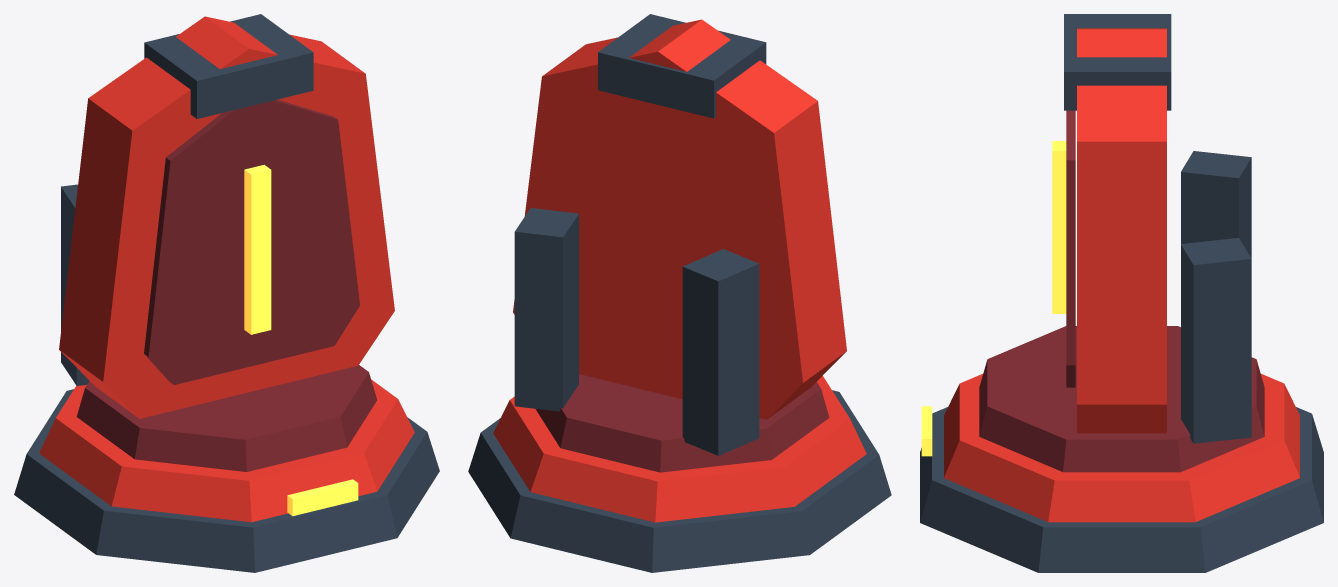
File: shield_red.glb
3 renders of one model, left to right at view 1: azimuth 30°, elevation 25°; view 2: azimuth 150°, elevation 25°; view 3: azimuth 270°, elevation 25°, orthographic. The views are drawn at different scales.
Visible parts, largest first — view 1: shield_red_Armor_Plate, shield_red_Front_Optical_Panel, shield_red_Base_Lower, shield_red_Base_Band, shield_red_Base_Deck, shield_red_Top_Rail, shield_red_Front_Slit, shield_red_Rear_Brace_Left, shield_red_Status_Light; view 2: shield_red_Armor_Plate, shield_red_Base_Lower, shield_red_Base_Band, shield_red_Rear_Brace_Left, shield_red_Base_Deck, shield_red_Rear_Brace_Right, shield_red_Top_Rail; view 3: shield_red_Armor_Plate, shield_red_Base_Lower, shield_red_Base_Band, shield_red_Base_Deck, shield_red_Rear_Brace_Right, shield_red_Rear_Brace_Left, shield_red_Top_Rail, shield_red_Front_Optical_Panel, shield_red_Front_Slit, shield_red_Status_Light.
Boxes of the visible parts, box(x1,y1,x2,y2) form: shield_red_Armor_Plate: box(59, 16, 394, 418); shield_red_Front_Optical_Panel: box(144, 99, 359, 384); shield_red_Base_Lower: box(14, 389, 439, 572); shield_red_Base_Band: box(39, 379, 414, 522); shield_red_Base_Deck: box(76, 365, 376, 471); shield_red_Top_Rail: box(144, 14, 313, 118); shield_red_Front_Slit: box(244, 164, 271, 334); shield_red_Rear_Brace_Left: box(61, 184, 89, 385); shield_red_Status_Light: box(287, 479, 358, 516); shield_red_Armor_Plate: box(513, 19, 846, 419); shield_red_Base_Lower: box(468, 390, 891, 572); shield_red_Base_Band: box(493, 376, 866, 522); shield_red_Rear_Brace_Left: box(682, 249, 759, 455); shield_red_Base_Deck: box(535, 374, 829, 472); shield_red_Rear_Brace_Right: box(514, 208, 578, 411); shield_red_Top_Rail: box(598, 14, 766, 118); shield_red_Armor_Plate: box(1077, 28, 1166, 433); shield_red_Base_Lower: box(920, 407, 1323, 572); shield_red_Base_Band: box(944, 374, 1299, 522); shield_red_Base_Deck: box(979, 326, 1264, 472); shield_red_Rear_Brace_Right: box(1181, 238, 1251, 443); shield_red_Rear_Brace_Left: box(1181, 151, 1251, 258); shield_red_Top_Rail: box(1064, 14, 1171, 110); shield_red_Front_Optical_Panel: box(1066, 110, 1075, 387); shield_red_Front_Slit: box(1052, 141, 1066, 313); shield_red_Status_Light: box(921, 406, 932, 456).
Bounding box in the file's own units: 0.9424 × 1.18 × 0.9424.
